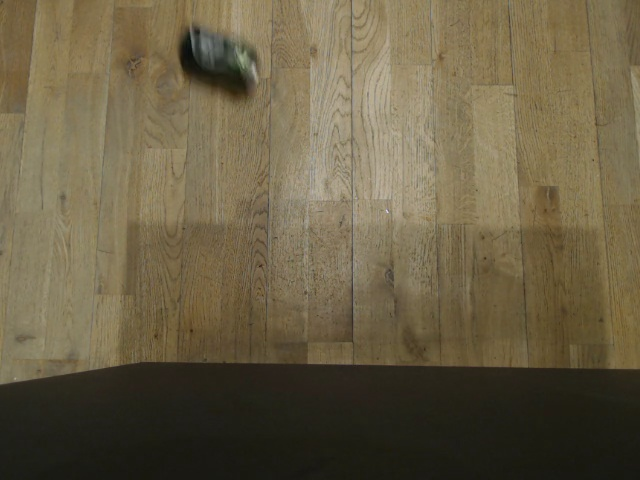beer: (176, 21, 266, 96)
